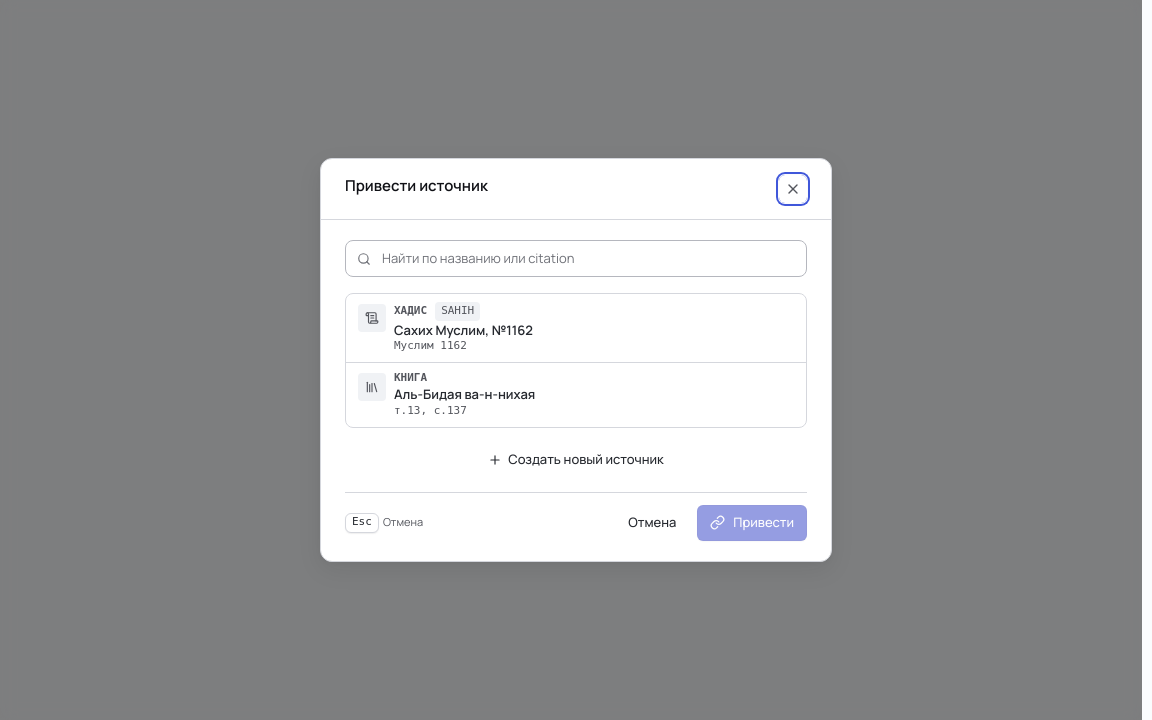
AddSourceModal › поиск фильтрует список локально
Check: the text "Сахих Муслим, №1162" is shown, box x1=394 y1=321 x2=533 y2=339
Type "Бидая" into the field named "Поиск источника".
click(576, 259); type("Бидая")  # box x1=345 y1=240 x2=807 y2=277
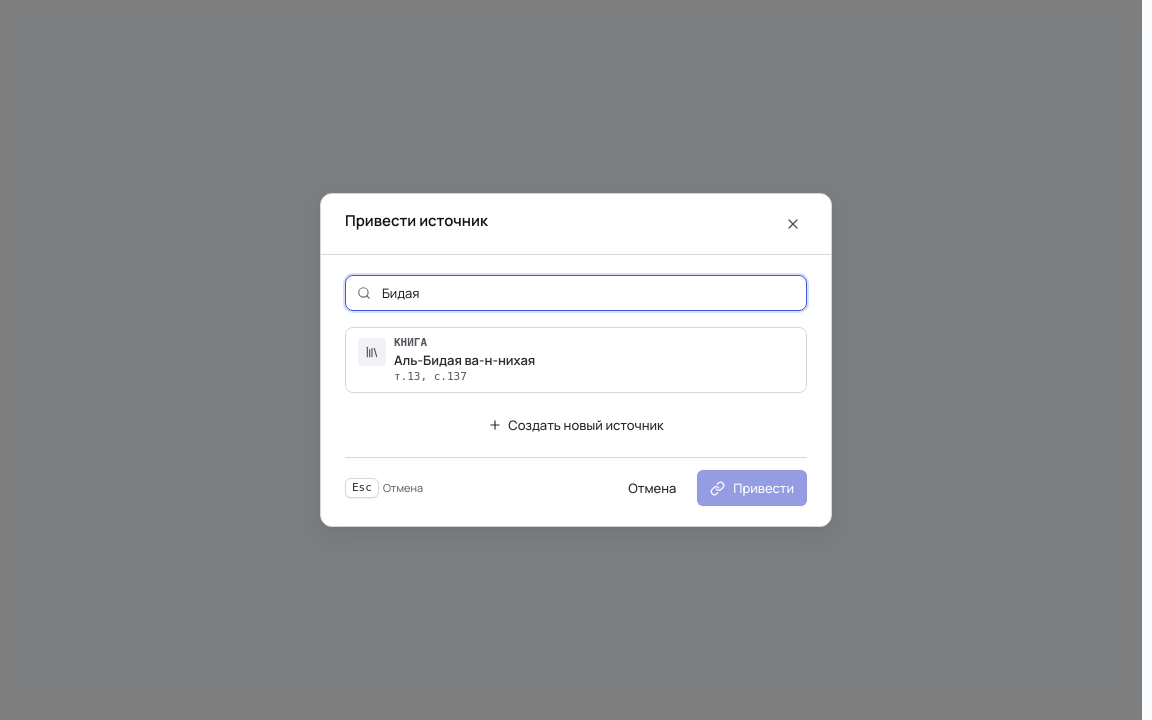
Check: the text "Аль-Бидая ва-н-нихая" is shown, box x1=394 y1=351 x2=535 y2=369
Check: the option "Сахих Муслим, №1162" is gone
